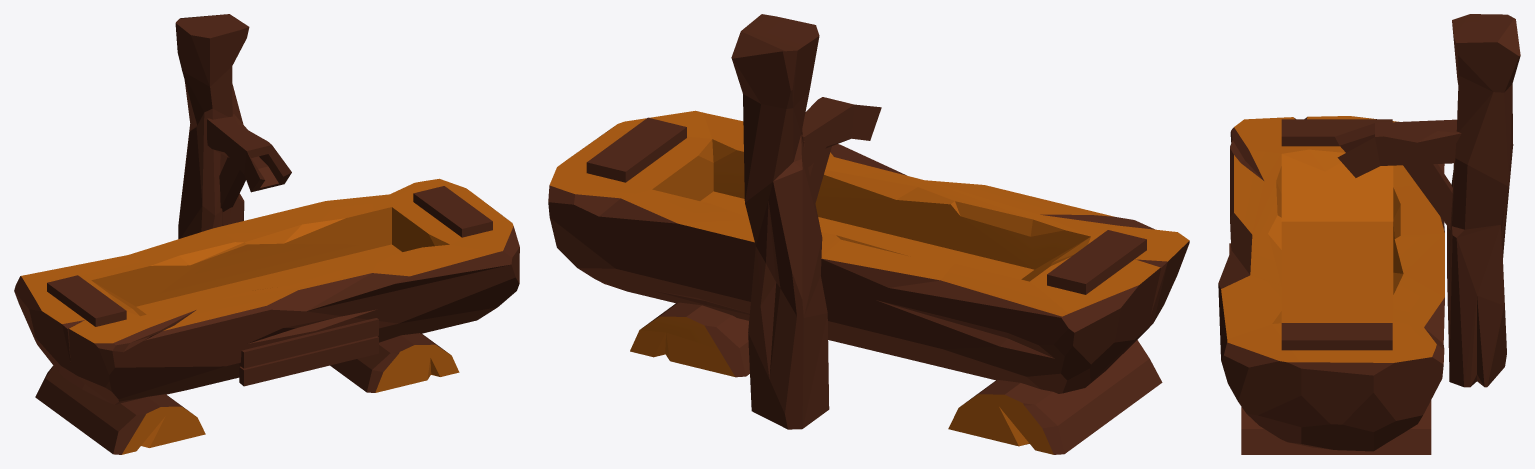
The model's file is Watering_Place.fbx.
3 views of the same model, side by side, from view 1: azimuth 30°, elevation 25°; view 2: azimuth 150°, elevation 25°; view 3: azimuth 270°, elevation 25° (orthographic). The views are drawn at different scales.
Visible parts, largest first — view 1: Watering_Place; view 2: Watering_Place; view 3: Watering_Place.
Part boxes in pixels (left/top/right/bottom): Watering_Place: left=14, top=14, right=519, bottom=454; Watering_Place: left=548, top=14, right=1189, bottom=454; Watering_Place: left=1218, top=14, right=1520, bottom=454.
Bounding box in the file's own units: 56.35 × 36.55 × 28.82.
